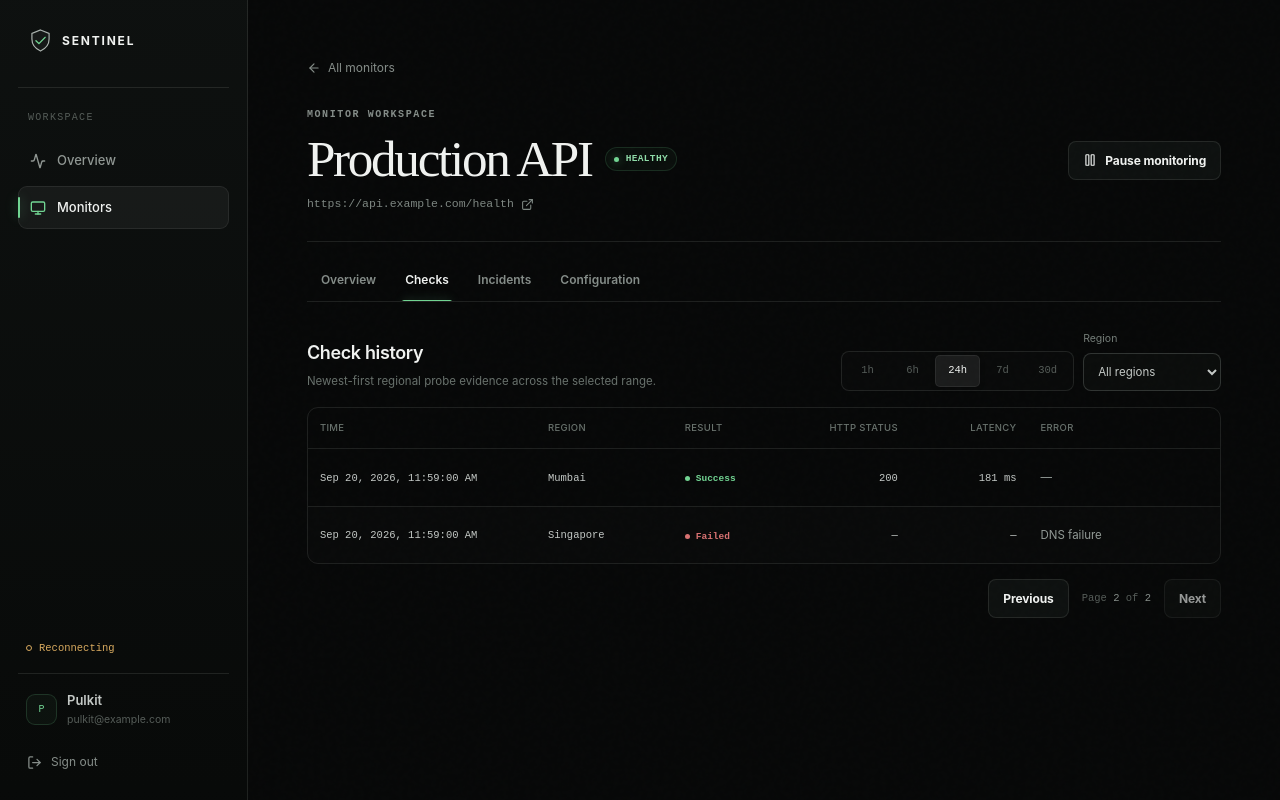
Sentinel operational monitoring workspace › renders successful and failed checks, nullable fields, readable errors, region filtering, and server pagination
Check: the text "DNS failure" is shown, box [1040,528,1102,542]
Check: the text "Success" is shown, box [685,471,736,486]
Select "Frankfurt" in the dropdown labelled "Region" at {"x": 1152, "y": 372}, box [1083,353,1221,391]
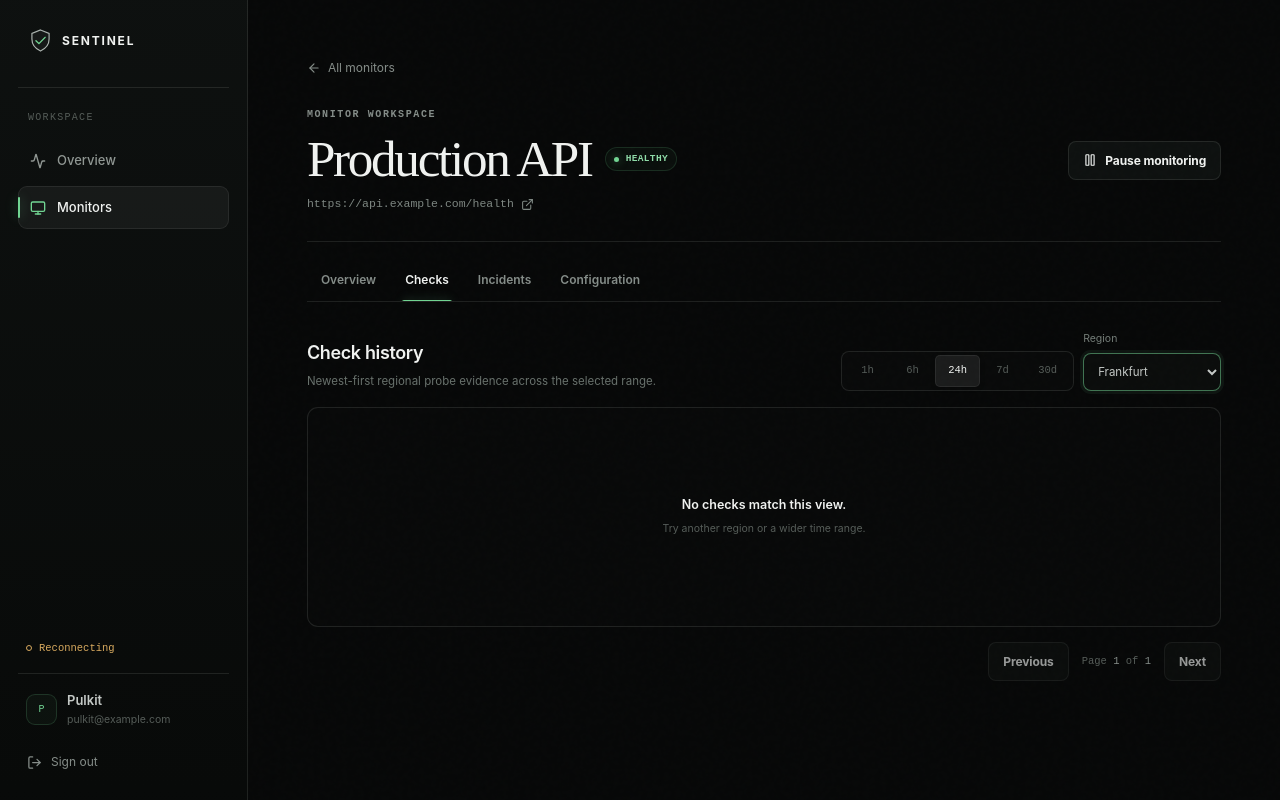
Check: the text "No checks match this view." is shown, box [682,496,846,516]
